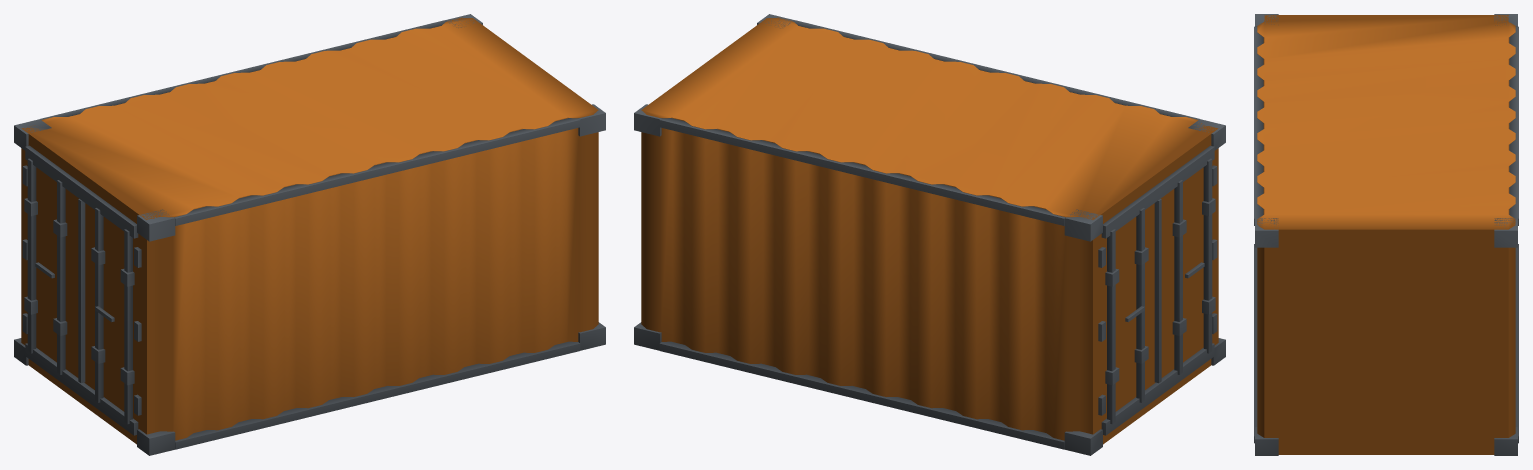
The model's file is container.glb.
3 views of the same model, side by side, from view 1: azimuth 30°, elevation 25°; view 2: azimuth 150°, elevation 25°; view 3: azimuth 270°, elevation 25° (orthographic). The views are drawn at different scales.
Parts seen in each view (by area): view 1: body, steel; view 2: body, steel; view 3: body, steel.
Boxes of the visible parts, <box> form: body: <box>21,17,598,444</box>; steel: <box>14,14,605,455</box>; body: <box>641,17,1218,444</box>; steel: <box>634,14,1225,455</box>; body: <box>1257,15,1515,454</box>; steel: <box>1254,14,1518,455</box>.
Size of the model in its own units: 1.98 by 0.94 by 1.
